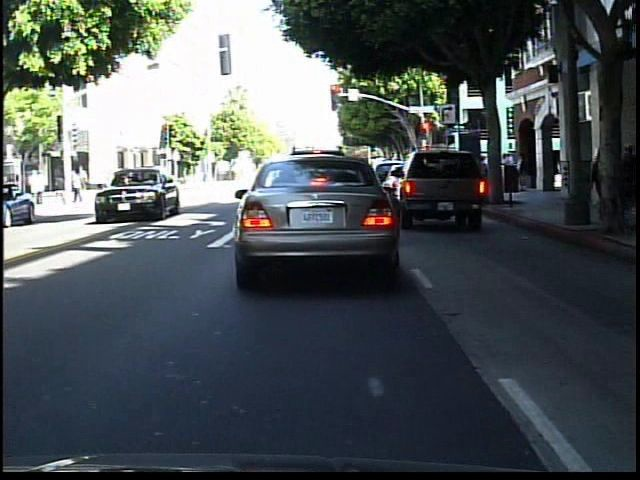person: (617, 141, 640, 219), (609, 139, 631, 212), (73, 169, 88, 206), (75, 162, 91, 196), (55, 170, 68, 206)
